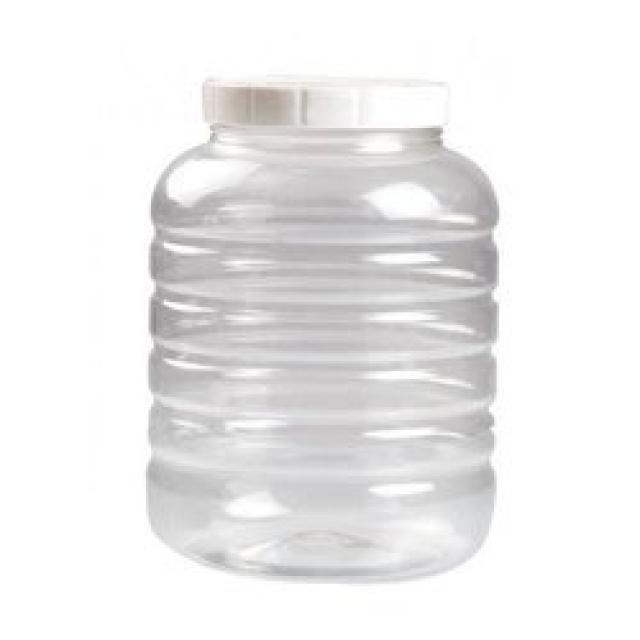plastic_bottle: (144, 73, 500, 582)
